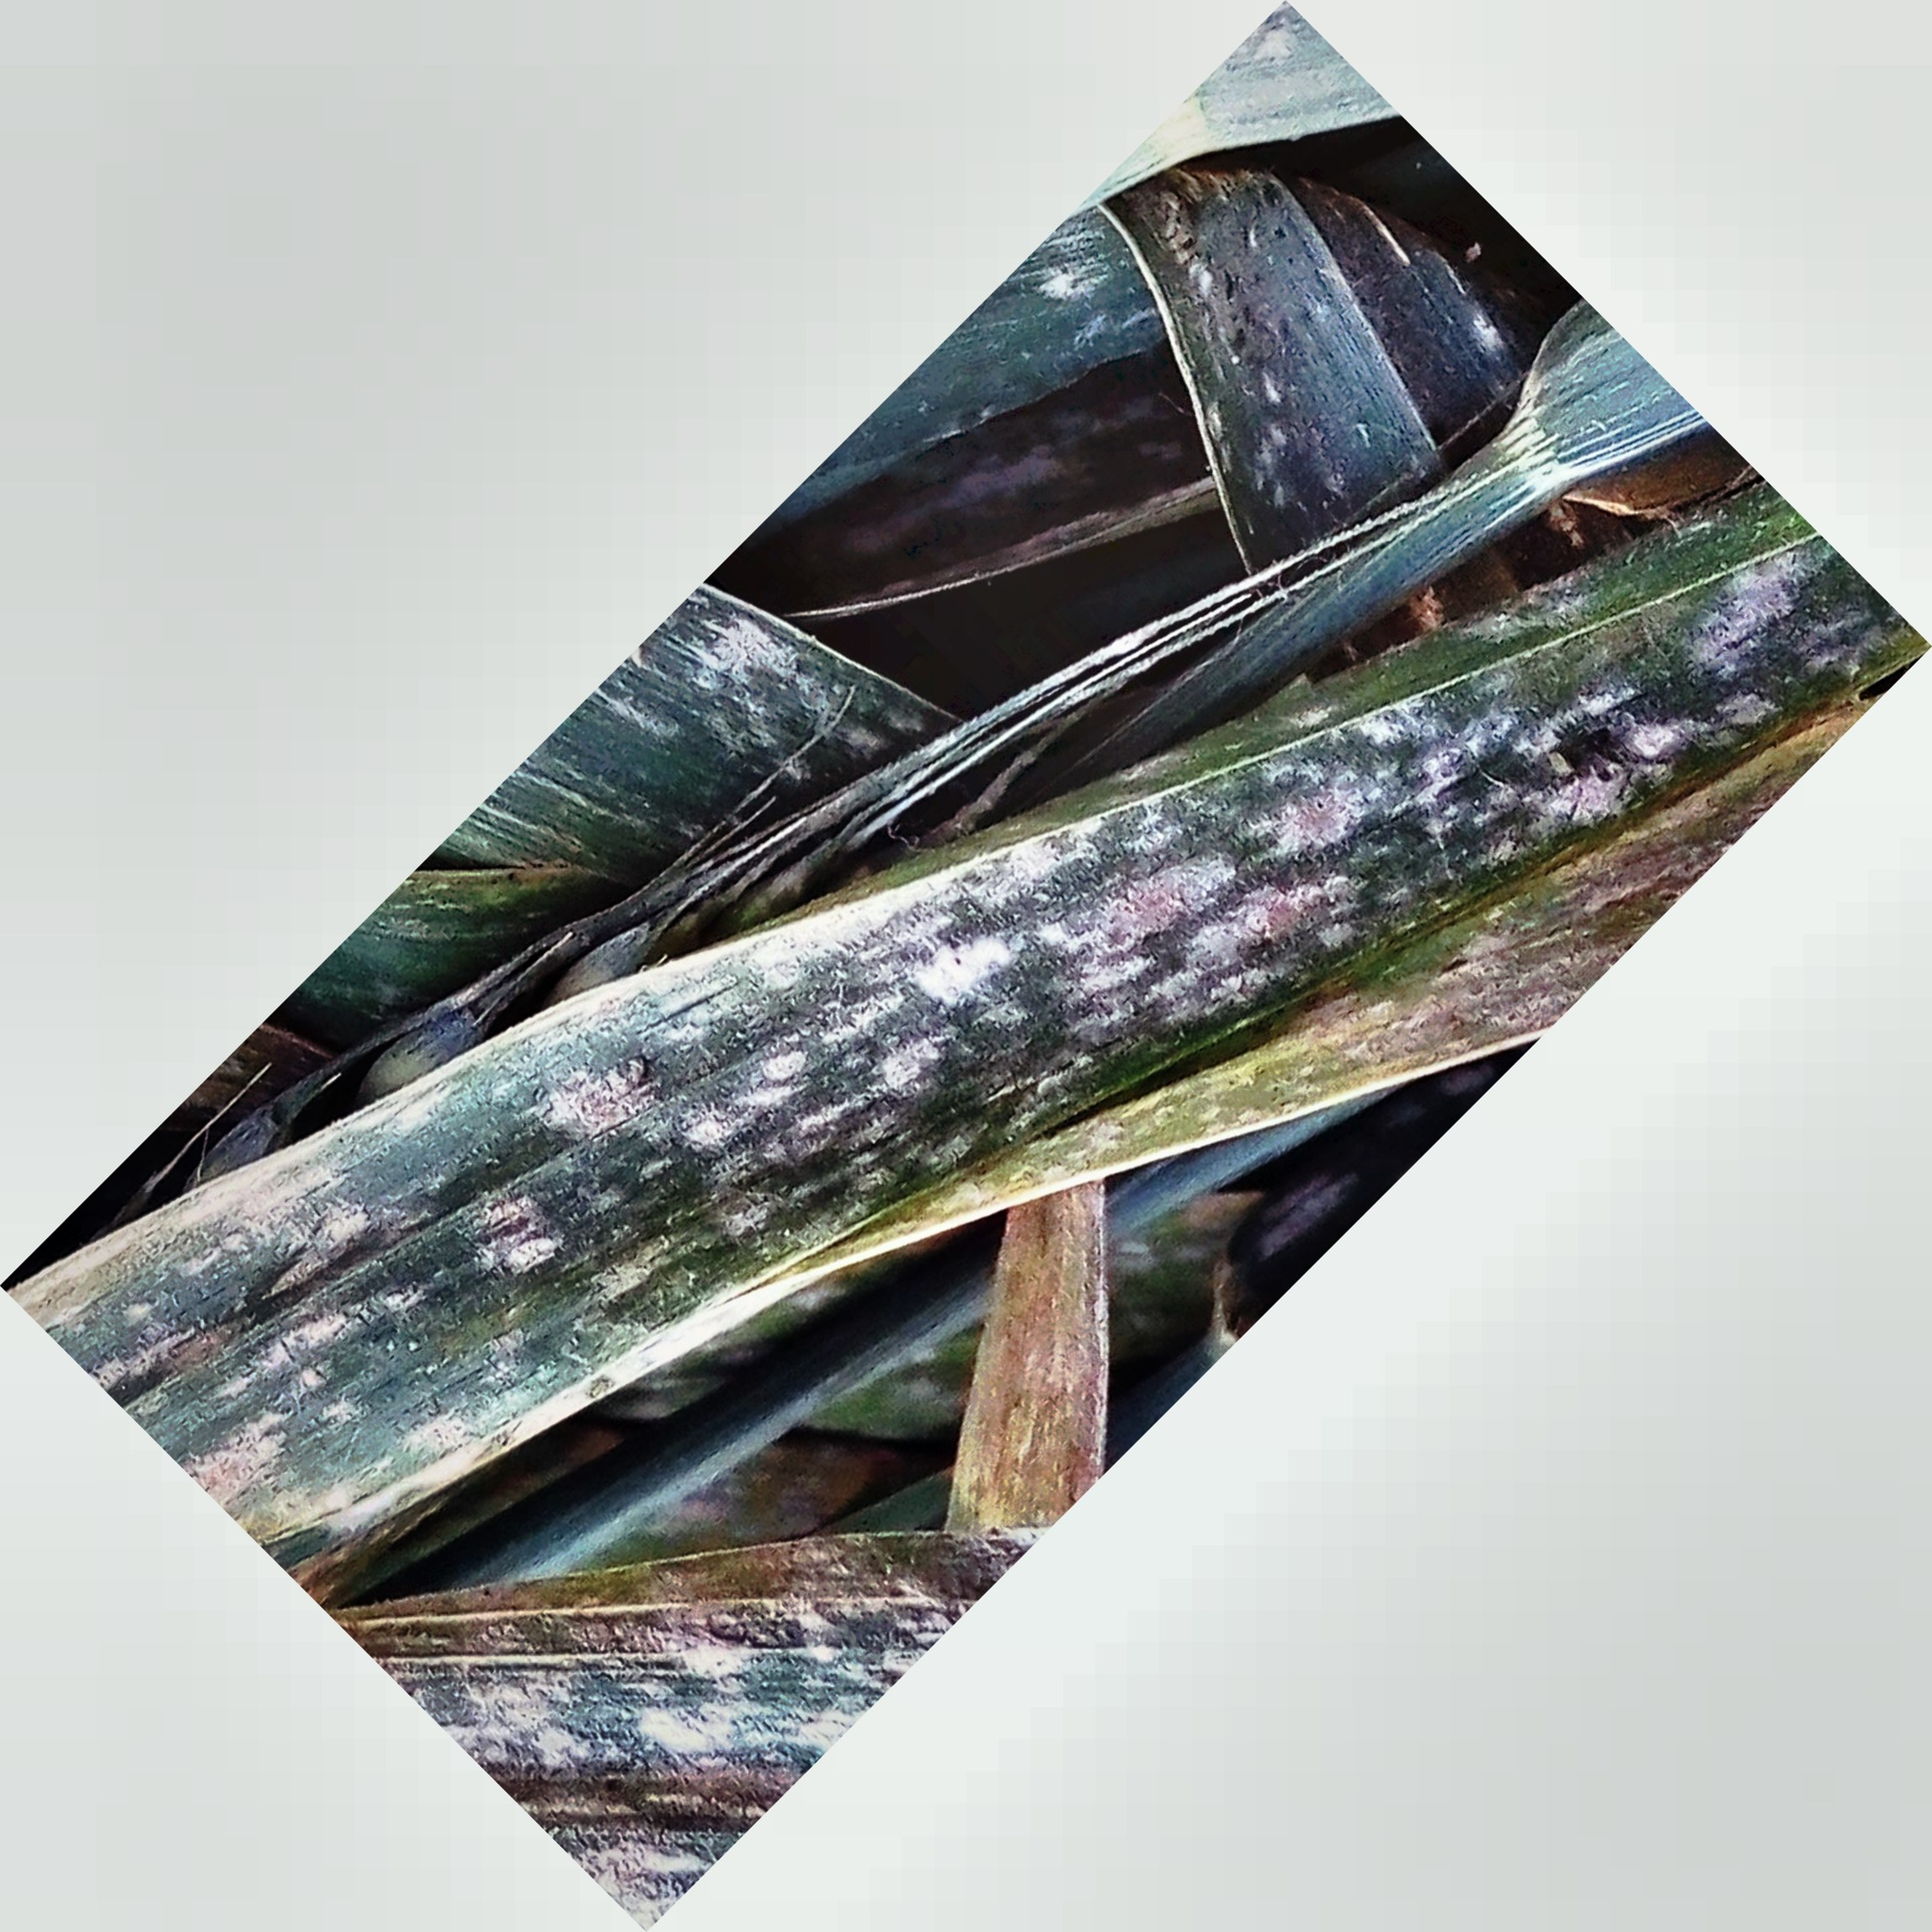Powdery Mildew: (460, 607, 1670, 1329)
